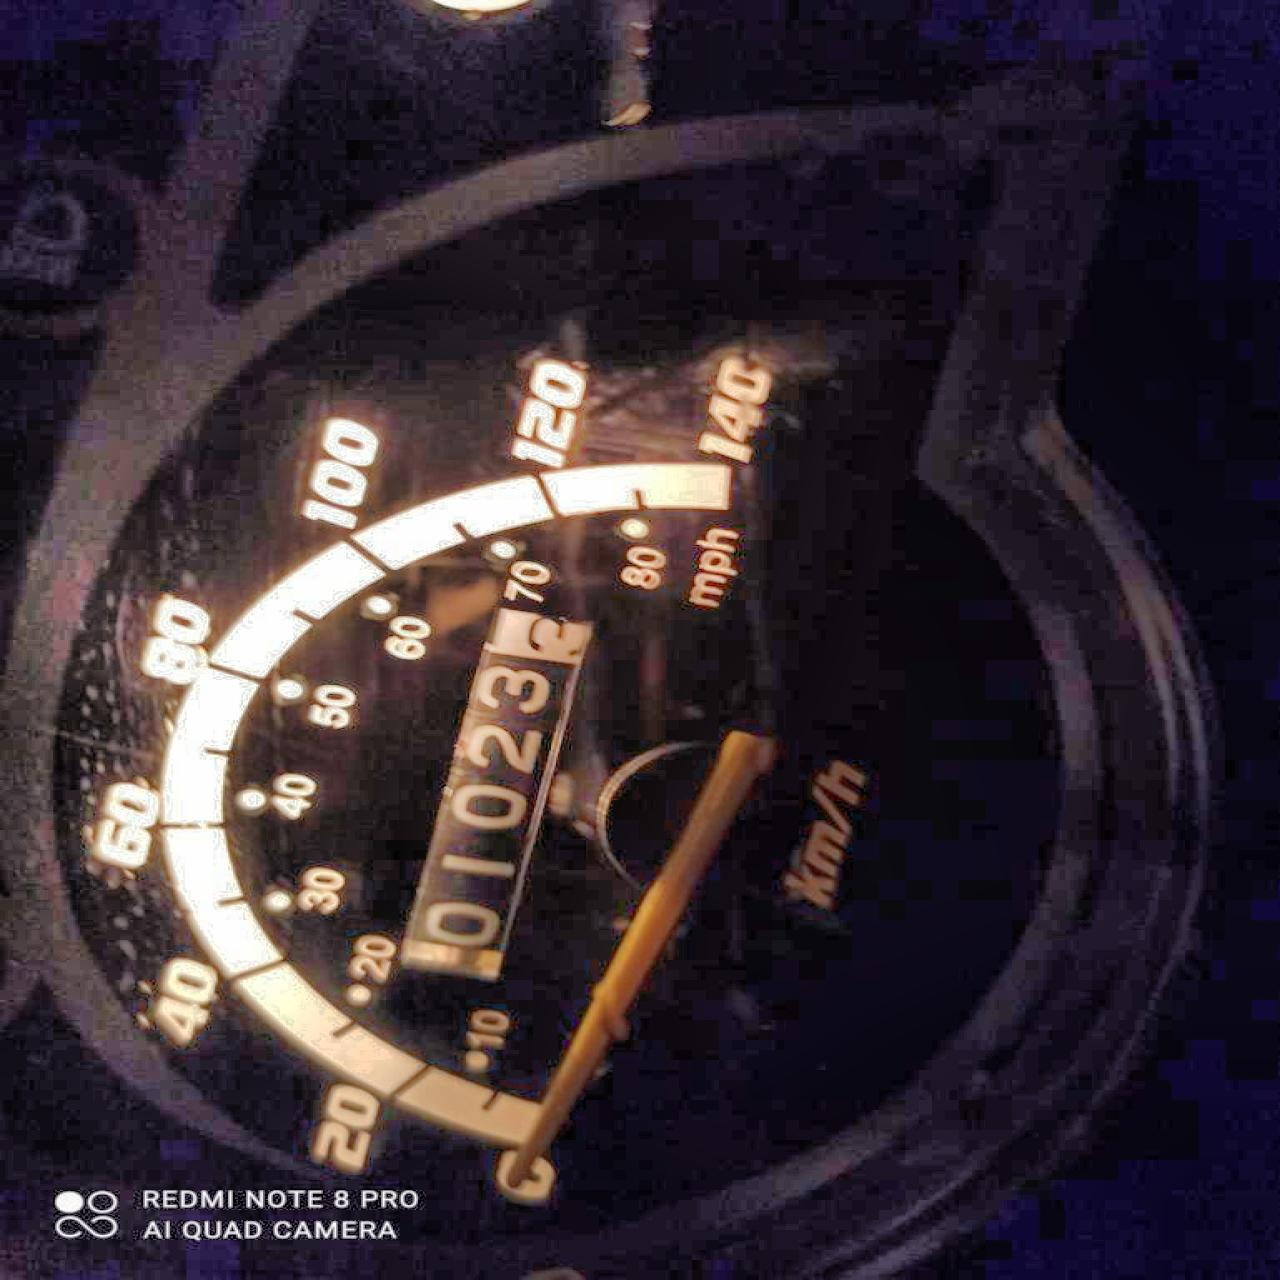0: (411, 899, 504, 952), (436, 781, 536, 828), (387, 612, 437, 638)
1: (417, 845, 535, 879)
2: (452, 722, 550, 771)
3: (462, 665, 563, 709), (511, 615, 595, 655)
6: (376, 639, 435, 659)
odometer: (388, 599, 598, 999)
